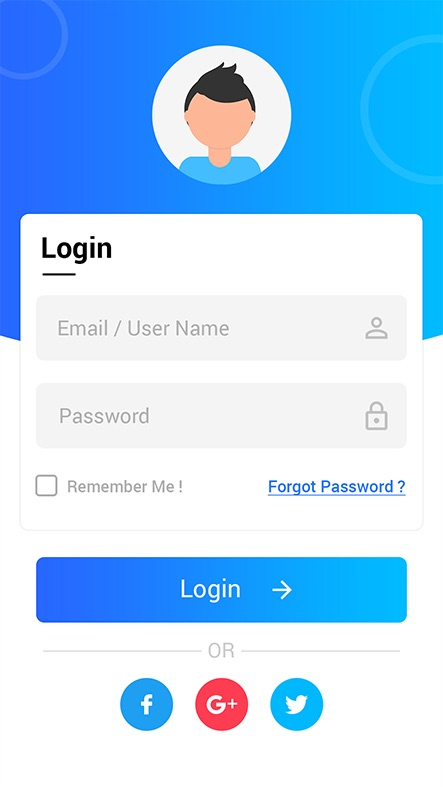CheckedTextView: (36, 474, 183, 498)
EditText: (37, 295, 408, 362), (36, 383, 407, 449)
Icon: (120, 677, 174, 732), (195, 677, 249, 732), (270, 677, 324, 732), (365, 401, 388, 431), (365, 317, 388, 340)
Image: (152, 45, 293, 187)
Text: (59, 319, 230, 338), (268, 480, 406, 497), (43, 237, 113, 265), (69, 480, 183, 494), (61, 408, 150, 425), (208, 642, 236, 659)
TextButton: (36, 557, 408, 624)
